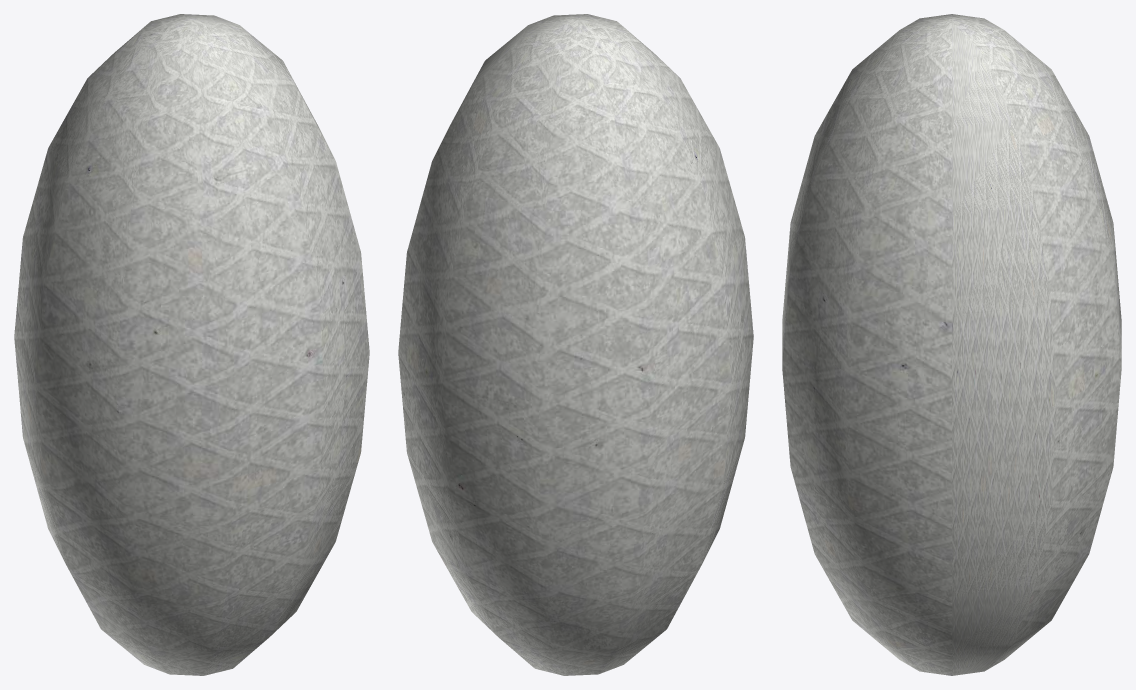
The model's file is Kaiko.obj.
3 views of the same model, side by side, from view 1: azimuth 30°, elevation 25°; view 2: azimuth 150°, elevation 25°; view 3: azimuth 270°, elevation 25° (orthographic).
Parts seen in each view (by area): view 1: pSphere1; view 2: pSphere1; view 3: pSphere1.
Boxes of the visible parts, x1=… form: pSphere1: x1=14, y1=14, x2=369, y2=675; pSphere1: x1=398, y1=14, x2=753, y2=675; pSphere1: x1=782, y1=14, x2=1121, y2=675.
Size of the model in its own units: 2 by 4 by 1.9.
